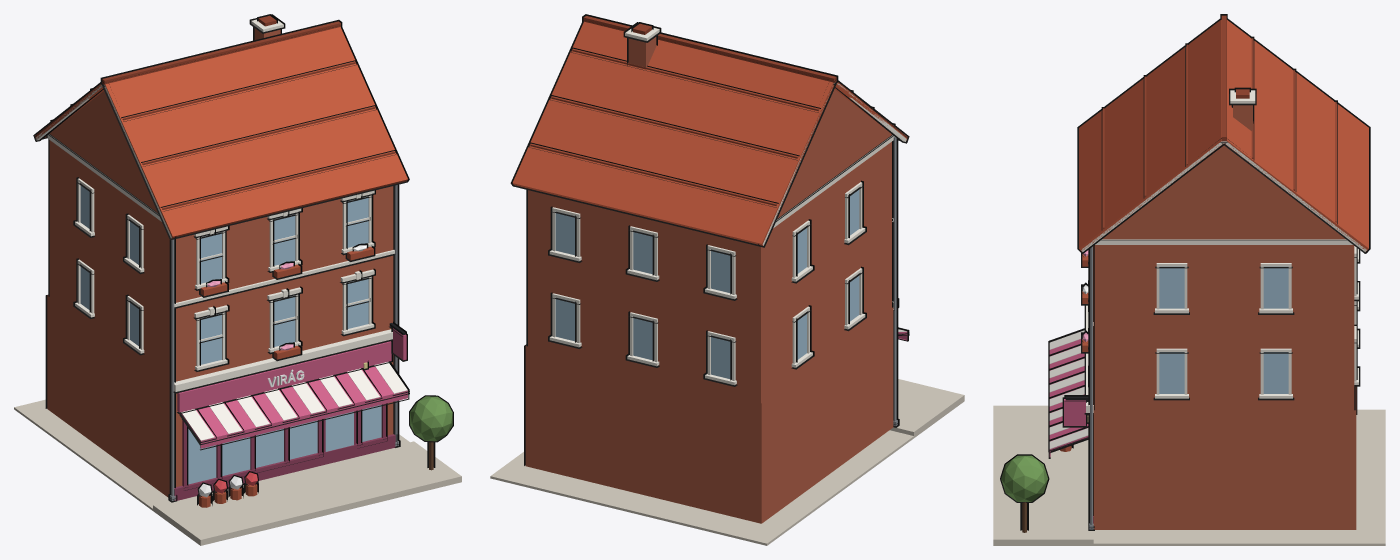
The model's file is Dukkan_genel_virag.fbx.
3 views of the same model, side by side, from view 1: azimuth 30°, elevation 25°; view 2: azimuth 150°, elevation 25°; view 3: azimuth 270°, elevation 25° (orthographic). The views are drawn at different scales.
Parts seen in each view (by area): view 1: Dukkan_genel_virag; view 2: Dukkan_genel_virag; view 3: Dukkan_genel_virag.
Boxes of the visible parts, x1=… form: Dukkan_genel_virag: x1=14, y1=14, x2=461, y2=545; Dukkan_genel_virag: x1=490, y1=14, x2=964, y2=545; Dukkan_genel_virag: x1=993, y1=14, x2=1385, y2=545.
Size of the model in its own units: 10.29 by 14.61 by 12.49.
